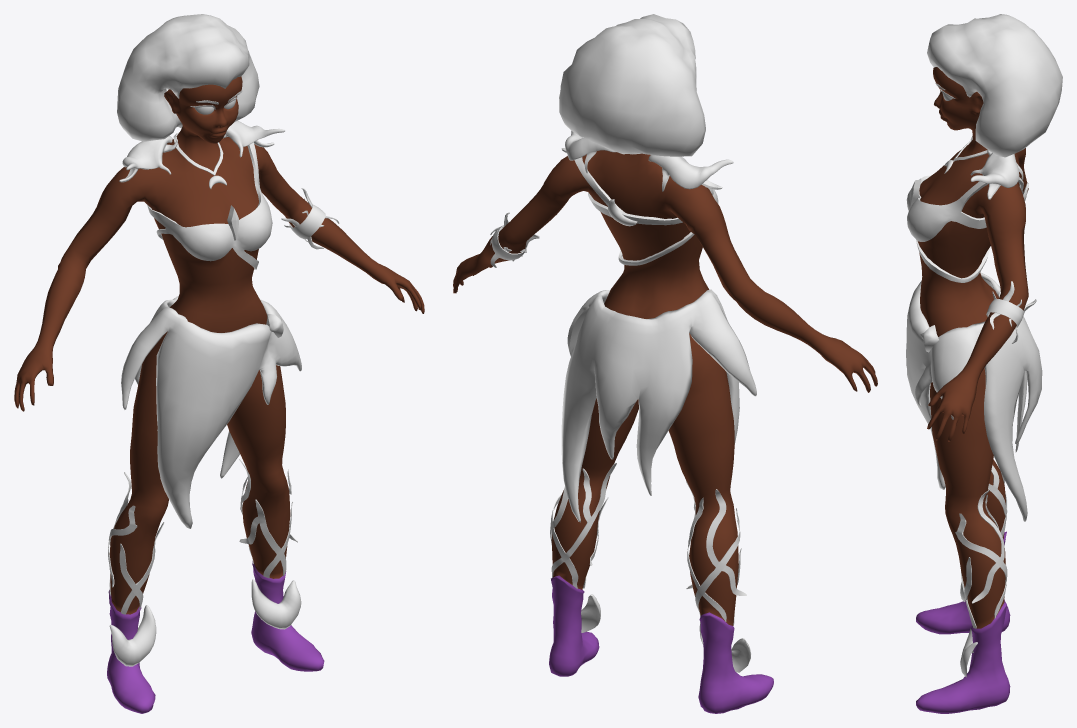
File: Antheia.fbx
3 views of the same model, side by side, from view 1: azimuth 30°, elevation 25°; view 2: azimuth 150°, elevation 25°; view 3: azimuth 270°, elevation 25° (orthographic). The views are drawn at different scales.
Visible parts, largest first — view 1: Antheia_low, Falda_low, Pelo_low, Top_low, Nenufar_low, Roots_low, Hombreras_low; view 2: Antheia_low, Falda_low, Pelo_low, Roots_low, Hombreras_low, Top_low, Nenufar_low; view 3: Antheia_low, Pelo_low, Falda_low, Top_low, Roots_low, Hombreras_low, Brazal_low, Nenufar_low, Hojas, Sun.
Part boxes in pixels (x1,y1,x2,y2): Antheia_low: (14,76,424,713); Falda_low: (121,295,301,528); Pelo_low: (117,14,259,141); Top_low: (147,136,272,269); Nenufar_low: (109,579,301,666); Roots_low: (108,459,297,614); Hombreras_low: (119,121,284,182); Antheia_low: (453,150,877,713); Falda_low: (561,289,756,522); Pelo_low: (559,14,705,156); Roots_low: (550,462,746,625); Hombreras_low: (561,131,733,191); Top_low: (574,157,718,265); Nenufar_low: (581,594,750,672); Antheia_low: (916,67,1028,713); Pelo_low: (927,14,1062,157); Falda_low: (906,272,1042,521); Top_low: (906,175,1023,282); Roots_low: (955,456,1007,628); Hombreras_low: (970,136,1023,199); Brazal_low: (986,299,1024,327); Nenufar_low: (960,582,977,677); Hojas: (987,281,1036,343); Sun: (920,325,938,352).
Bounding box in the file's own units: 3.22 × 4.91 × 1.08.
